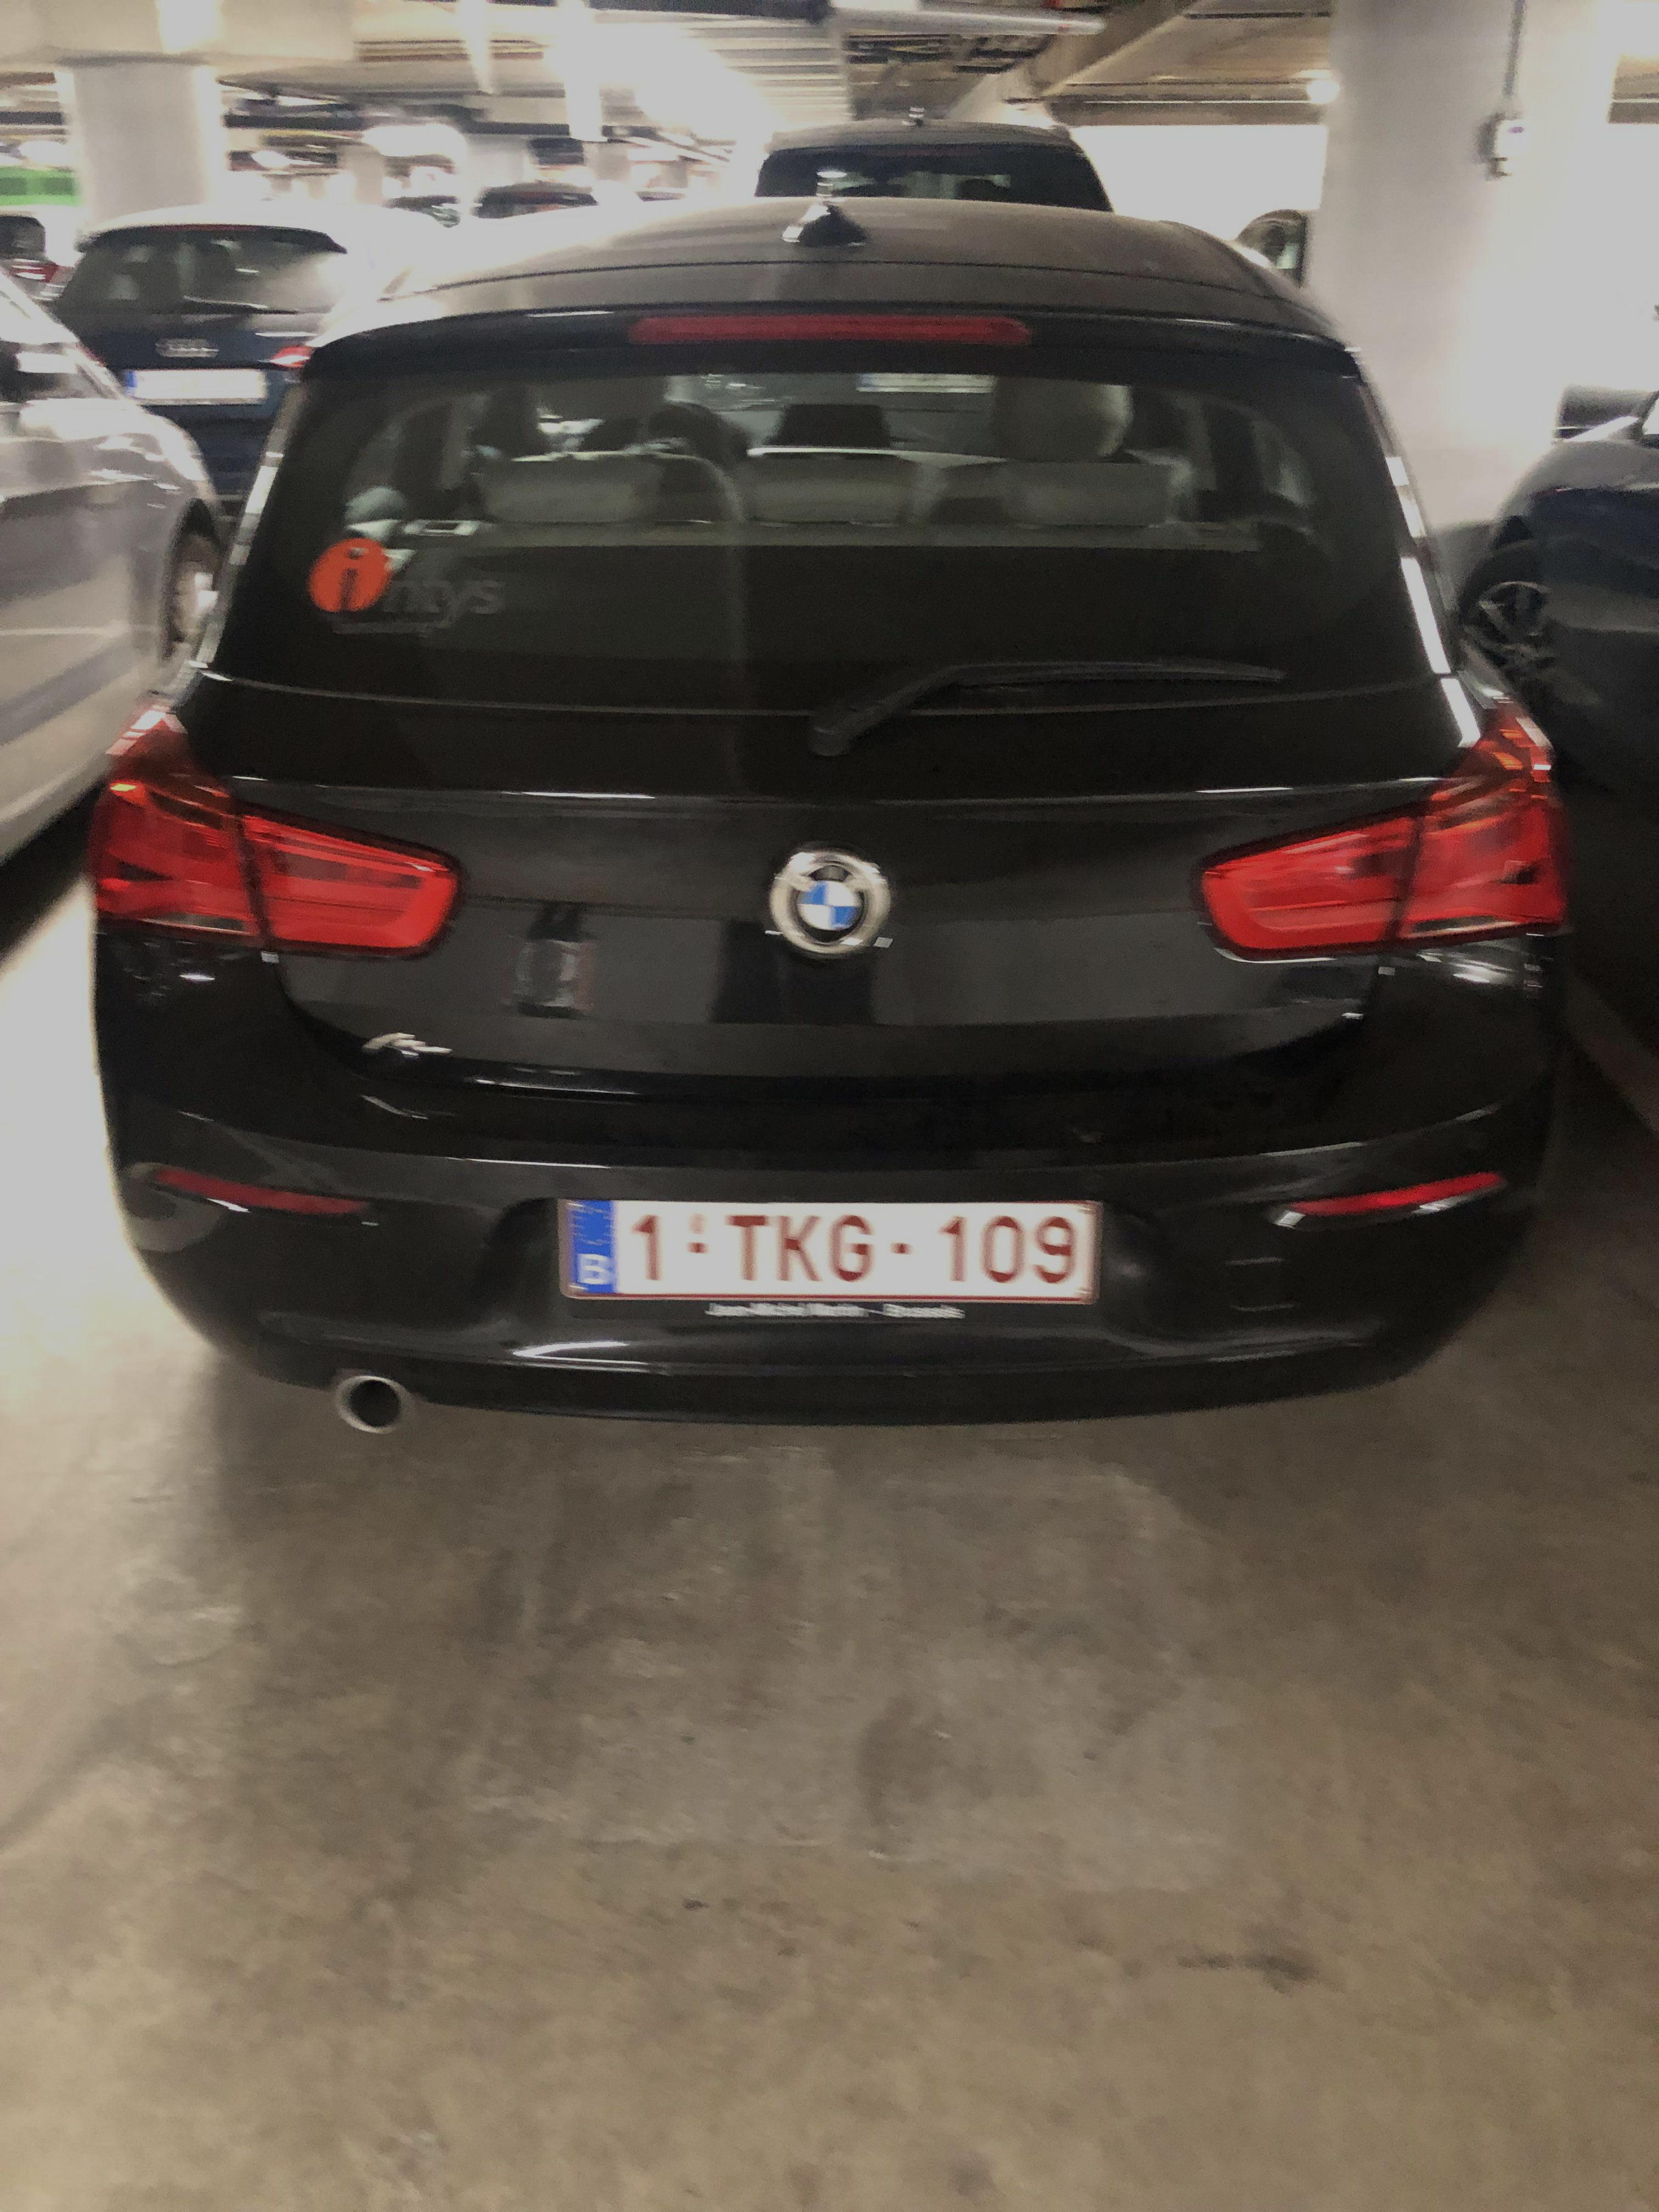plate: (537, 1173, 1108, 1324)
